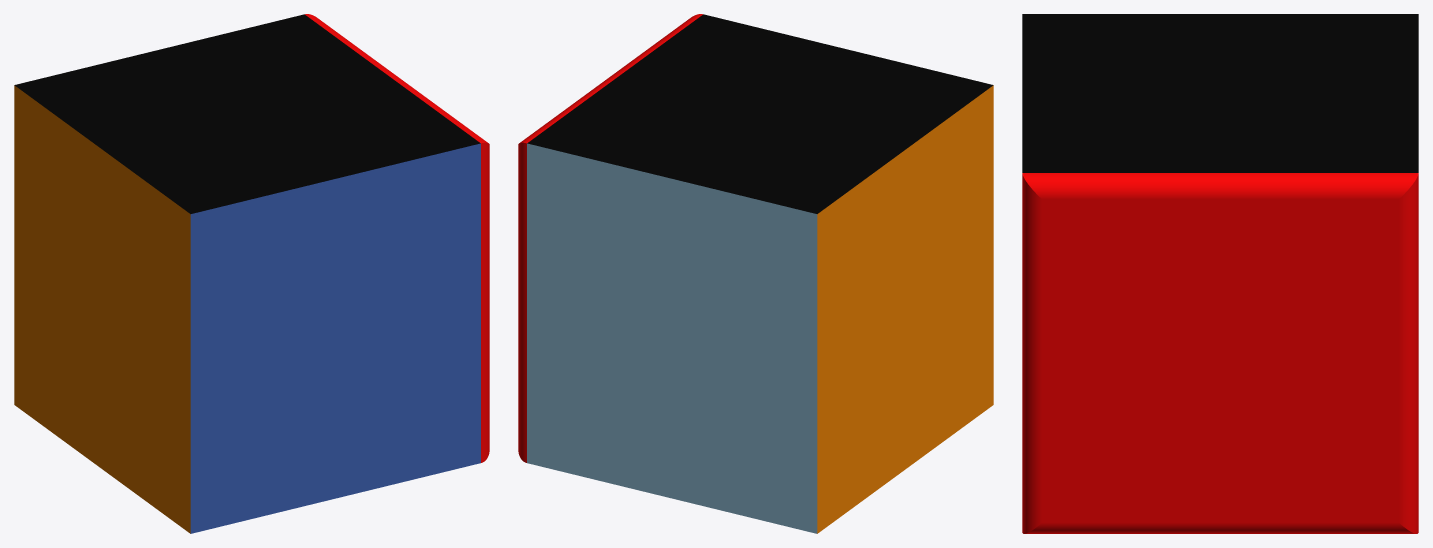
The model's file is test_cube_filleted_100mm.obj.
3 renders of one model, left to right at view 1: azimuth 30°, elevation 25°; view 2: azimuth 150°, elevation 25°; view 3: azimuth 270°, elevation 25°, orthographic. The views are drawn at different scales.
Visible parts, largest first — view 1: mesh3, mesh0, mesh2, mesh5, mesh8; view 2: mesh4, mesh0, mesh2, mesh9, mesh8; view 3: mesh6, mesh2, mesh8, mesh5, mesh9, mesh7.
Boxes of the visible parts, x1=… form: mesh3: x1=190, y1=143, x2=480, y2=533; mesh0: x1=14, y1=85, x2=190, y2=533; mesh2: x1=14, y1=14, x2=480, y2=213; mesh5: x1=481, y1=142, x2=489, y2=462; mesh8: x1=305, y1=14, x2=487, y2=143; mesh4: x1=527, y1=143, x2=817, y2=533; mesh0: x1=817, y1=85, x2=993, y2=533; mesh2: x1=527, y1=14, x2=993, y2=213; mesh9: x1=518, y1=142, x2=526, y2=462; mesh8: x1=520, y1=14, x2=702, y2=143; mesh6: x1=1042, y1=199, x2=1398, y2=522; mesh2: x1=1022, y1=14, x2=1418, y2=172; mesh8: x1=1022, y1=173, x2=1418, y2=199; mesh5: x1=1022, y1=174, x2=1042, y2=533; mesh9: x1=1398, y1=174, x2=1418, y2=533; mesh7: x1=1025, y1=522, x2=1415, y2=533.
Size of the model in its own units: 0.1 by 0.1 by 0.1.
